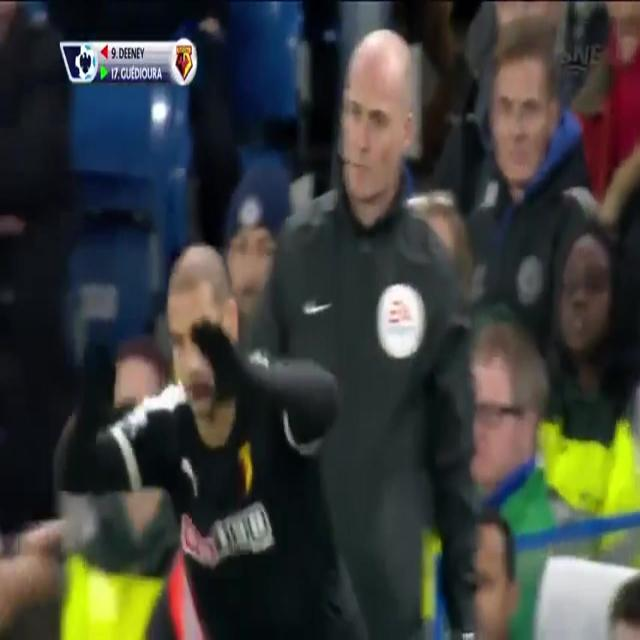Player: (55, 230, 371, 640)
